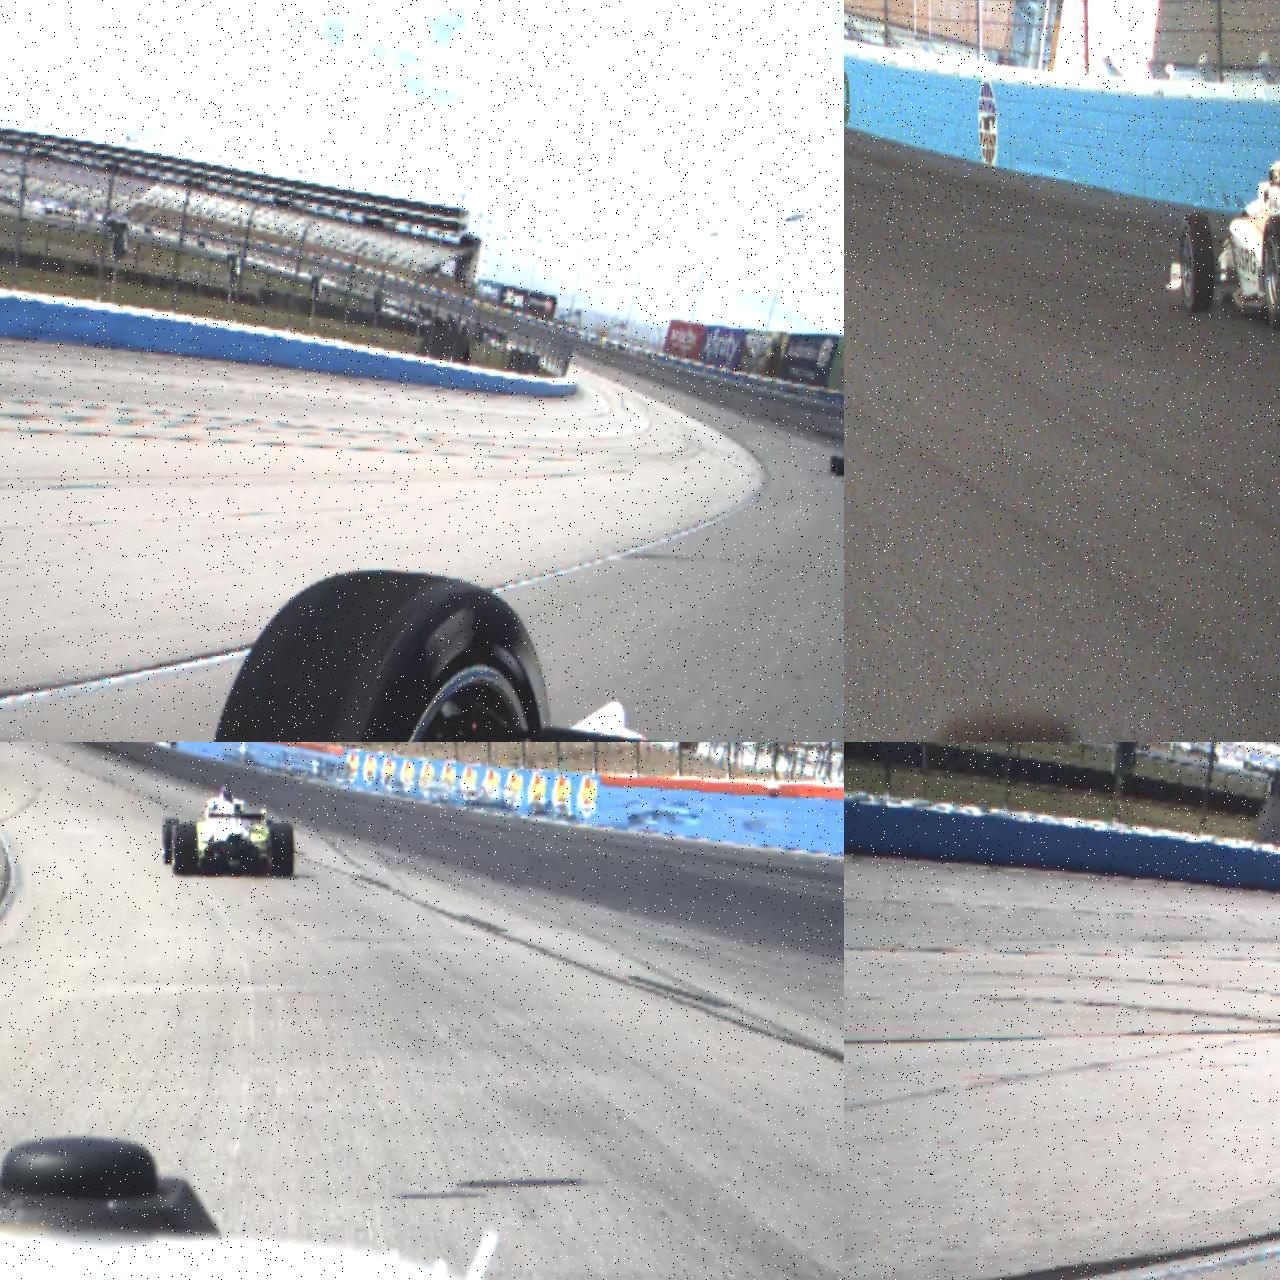AV: (1163, 102, 1280, 331), (161, 775, 295, 881), (830, 445, 844, 476)
Wheel: (195, 566, 558, 742), (1178, 211, 1216, 314), (1261, 211, 1280, 328), (172, 824, 198, 876), (272, 823, 294, 878), (162, 817, 181, 865), (835, 457, 844, 476), (831, 456, 839, 472)
